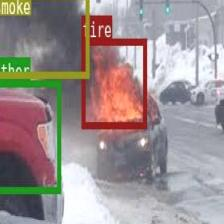fire: (81, 39, 146, 127)
smoke: (0, 0, 88, 78)
